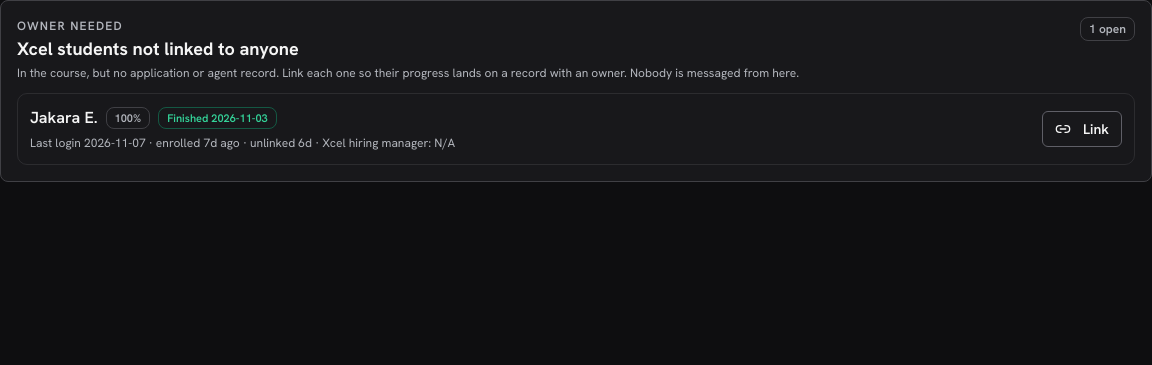
Test: XcelUnmatchedPanel › links a student to the picked application through admin_link_xcel_student
The image size is (1152, 365).
Later steps or results of the test are not shown.
Click the button "Link" at (1082, 129), box [1042, 111, 1122, 147]
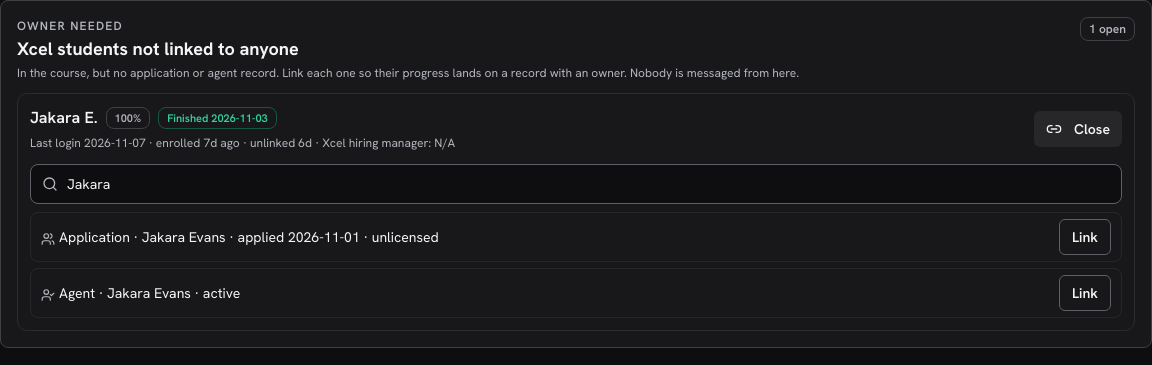
expect the text "Application · Jakara Evans · applied 2026-11-01 · unlicensed" is shown: met, box [41, 227, 439, 247]
